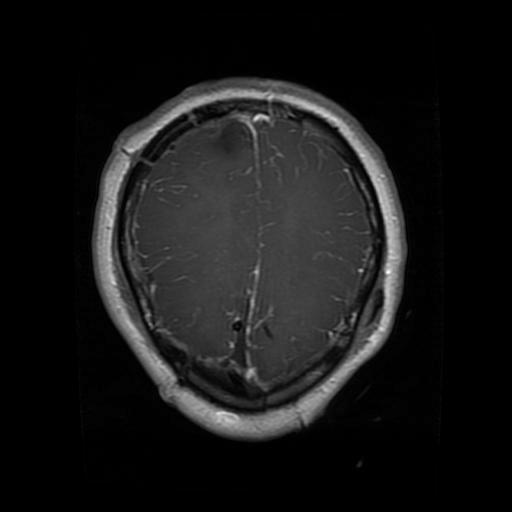Tumour-Glioma: (209, 112, 283, 158)
